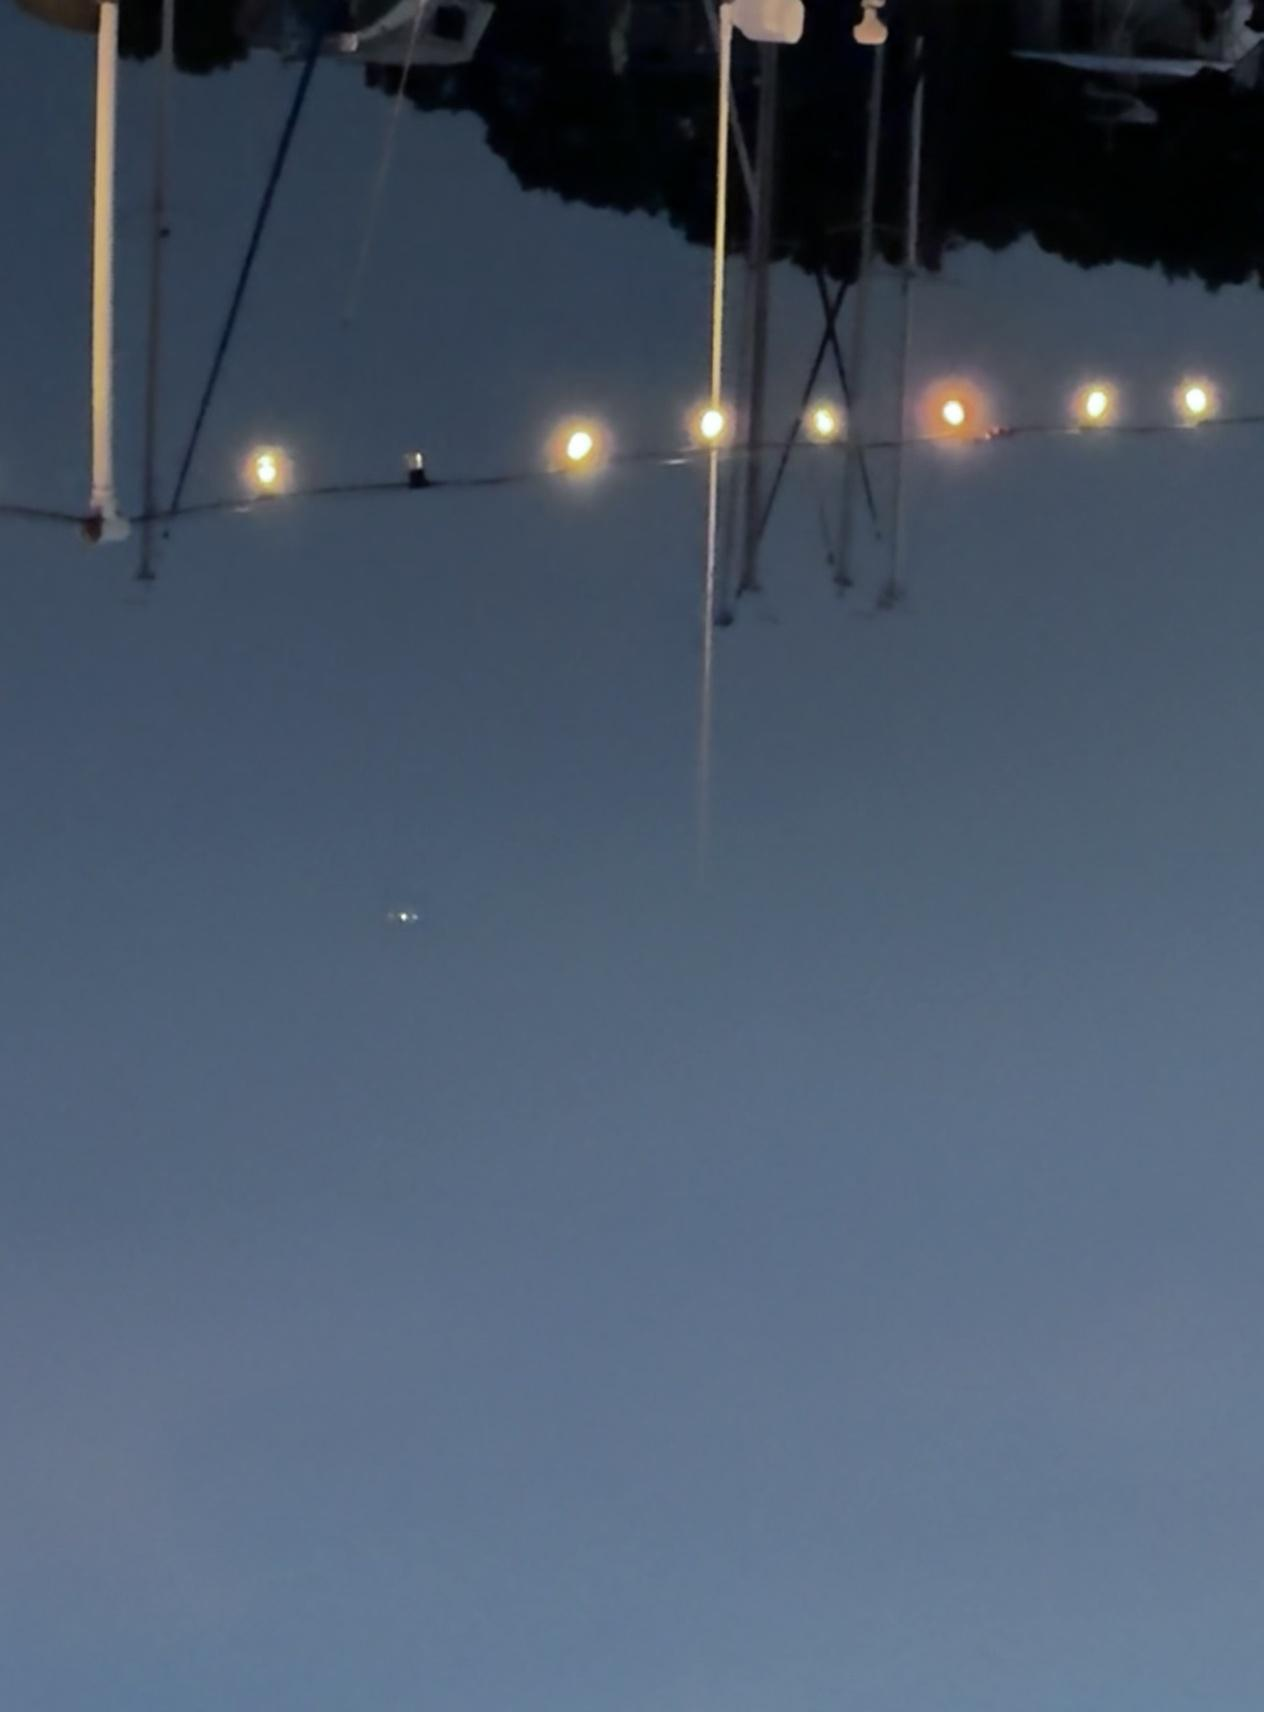Plane: (373, 891, 444, 940)
